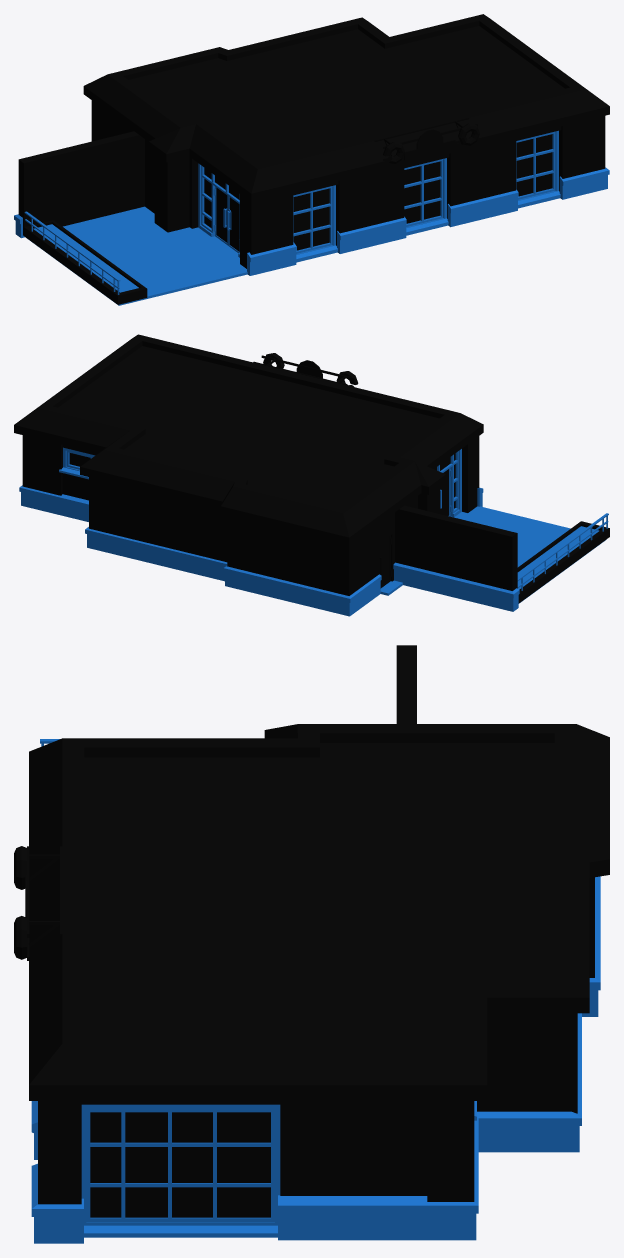
Rendered from SM_donut_shop.fbx.
The picture shows the model from 3 angles, top to bottom: view 1: azimuth 30°, elevation 25°; view 2: azimuth 150°, elevation 25°; view 3: azimuth 270°, elevation 25°; orthographic projection. The views are drawn at different scales.
Parts seen in each view (by area): view 1: Cube, shop, logo_1, Cylinder_2, Cylinder_3; view 2: Cube, shop, logo_1, Cylinder, Cylinder_3; view 3: Cube, shop, logo_1.
Part boxes in pixels (<box>): Cube: <box>83,14,609,201</box>; shop: <box>14,100,609,305</box>; logo_1: <box>374,117,479,164</box>; Cylinder_2: <box>213,186,228,245</box>; Cylinder_3: <box>227,196,239,253</box>; Cube: <box>14,334,483,545</box>; shop: <box>19,435,609,616</box>; logo_1: <box>253,353,358,386</box>; Cylinder: <box>379,535,391,588</box>; Cylinder_3: <box>440,468,451,516</box>; Cube: <box>29,724,609,1100</box>; shop: <box>31,645,600,1243</box>; logo_1: <box>14,846,62,960</box>.
Bounding box in the file's own units: 2127 × 429 × 1168.
